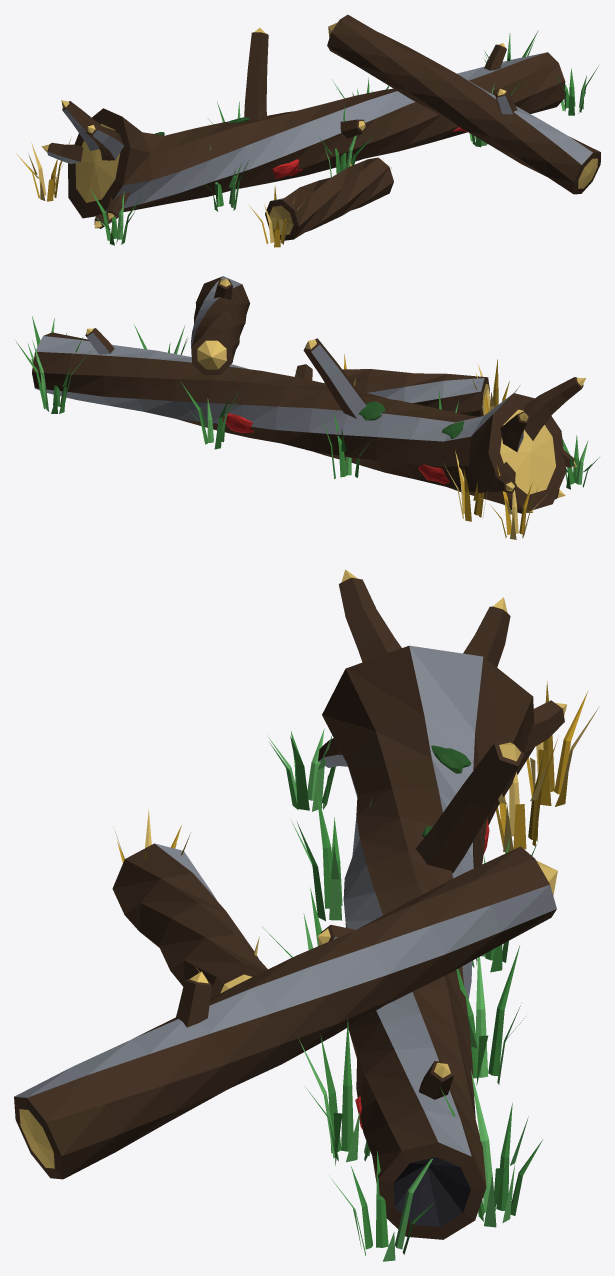
Rendered from batang.glb.
3 renders of one model, top to bottom at view 1: azimuth 30°, elevation 25°; view 2: azimuth 150°, elevation 25°; view 3: azimuth 270°, elevation 25°, orthographic. The views are drawn at different scales.
Visible parts, largest first — view 1: trunk_dark_wood, log_crossed_dark_wood, trunk_mid_grey, log_short_dark_wood, branch_stubs_dark_wood, grass_tufts_acacia_green, root_plate_dark_wood, trunk_straw_gold_light, log_crossed_mid_grey, grass_tufts_acacia_green_light, root_plate_mid_grey, grass_tufts_straw_gold (+4 smaller); view 2: trunk_dark_wood, trunk_mid_grey, log_crossed_dark_wood, log_short_dark_wood, root_plate_dark_wood, trunk_straw_gold_light, grass_tufts_acacia_green, log_short_mid_grey, branch_stubs_mid_grey, branch_stubs_dark_wood, grass_tufts_acacia_green_light, grass_tufts_straw_gold (+6 smaller); view 3: trunk_dark_wood, log_crossed_dark_wood, trunk_mid_grey, log_crossed_mid_grey, log_short_dark_wood, grass_tufts_acacia_green, grass_tufts_acacia_green_light, branch_stubs_dark_wood, root_plate_dark_wood, trunk_soot_black, grass_tufts_straw_gold, grass_tufts_straw_gold_light (+2 smaller).
Part boxes in pixels (x1,y1,x2,y2): trunk_dark_wood: (68,52,565,218); log_crossed_dark_wood: (327,14,600,194); trunk_mid_grey: (105,52,546,212); log_short_dark_wood: (265,157,393,240); branch_stubs_dark_wood: (244,32,506,138); grass_tufts_acacia_green: (90,30,598,245); root_plate_dark_wood: (47,101,130,228); trunk_straw_gold_light: (75,123,120,202); log_crossed_mid_grey: (463,77,592,164); grass_tufts_acacia_green_light: (95,33,586,243); root_plate_mid_grey: (48,109,123,227); grass_tufts_straw_gold: (16,139,381,247); trunk_dark_wood: (32,332,566,511); trunk_mid_grey: (35,336,512,441); log_crossed_dark_wood: (191,276,249,375); log_short_dark_wood: (342,369,489,416); root_plate_dark_wood: (492,377,583,513); trunk_straw_gold_light: (500,409,555,494); grass_tufts_acacia_green: (15,316,599,489); log_short_mid_grey: (367,378,484,403); branch_stubs_mid_grey: (86,333,366,418); branch_stubs_dark_wood: (85,328,366,418); grass_tufts_acacia_green_light: (27,317,591,484); grass_tufts_straw_gold: (344,354,532,534); trunk_dark_wood: (322,646,534,1239); log_crossed_dark_wood: (14,846,556,1179); trunk_mid_grey: (343,645,483,1156); log_crossed_mid_grey: (14,885,556,1097); log_short_dark_wood: (112,843,267,998); grass_tufts_acacia_green: (262,731,542,1254); grass_tufts_acacia_green_light: (267,728,528,1261); branch_stubs_dark_wood: (319,740,524,1099); root_plate_dark_wood: (318,577,564,760); trunk_soot_black: (393,1157,470,1226); grass_tufts_straw_gold: (117,690,588,862); grass_tufts_straw_gold_light: (145,706,599,972).
Bounding box in the file's own units: 3.98 × 0.917 × 1.99.
